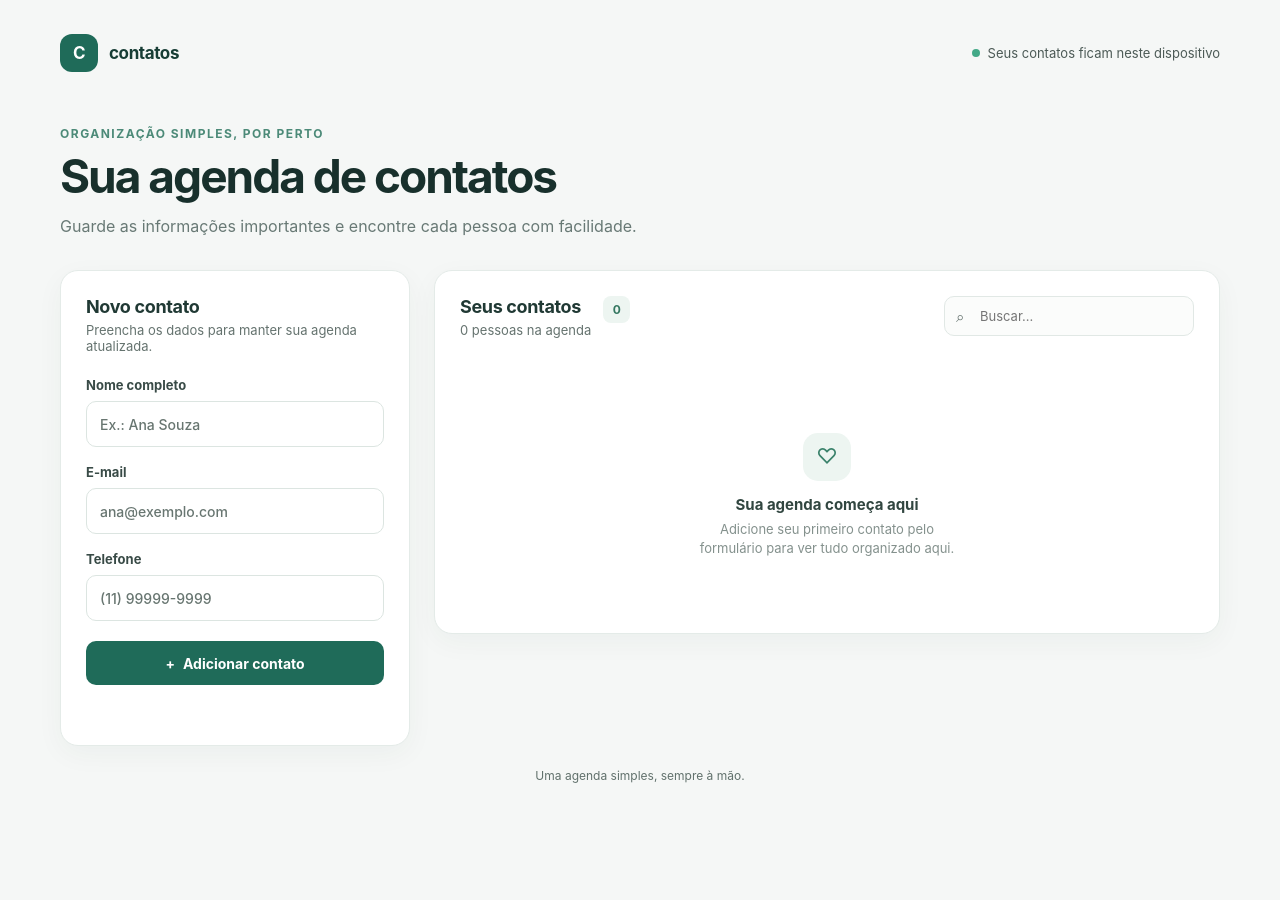
agenda de contatos › adiciona, edita e remove contatos
The width and height of the screenshot is (1280, 900).
In the field labelled "Nome completo": [235, 424] box [86,401,384,447], type "Ana Souza"
In the field labelled "E-mail": [235, 511] box [86,488,384,534], type "ana@example.com"
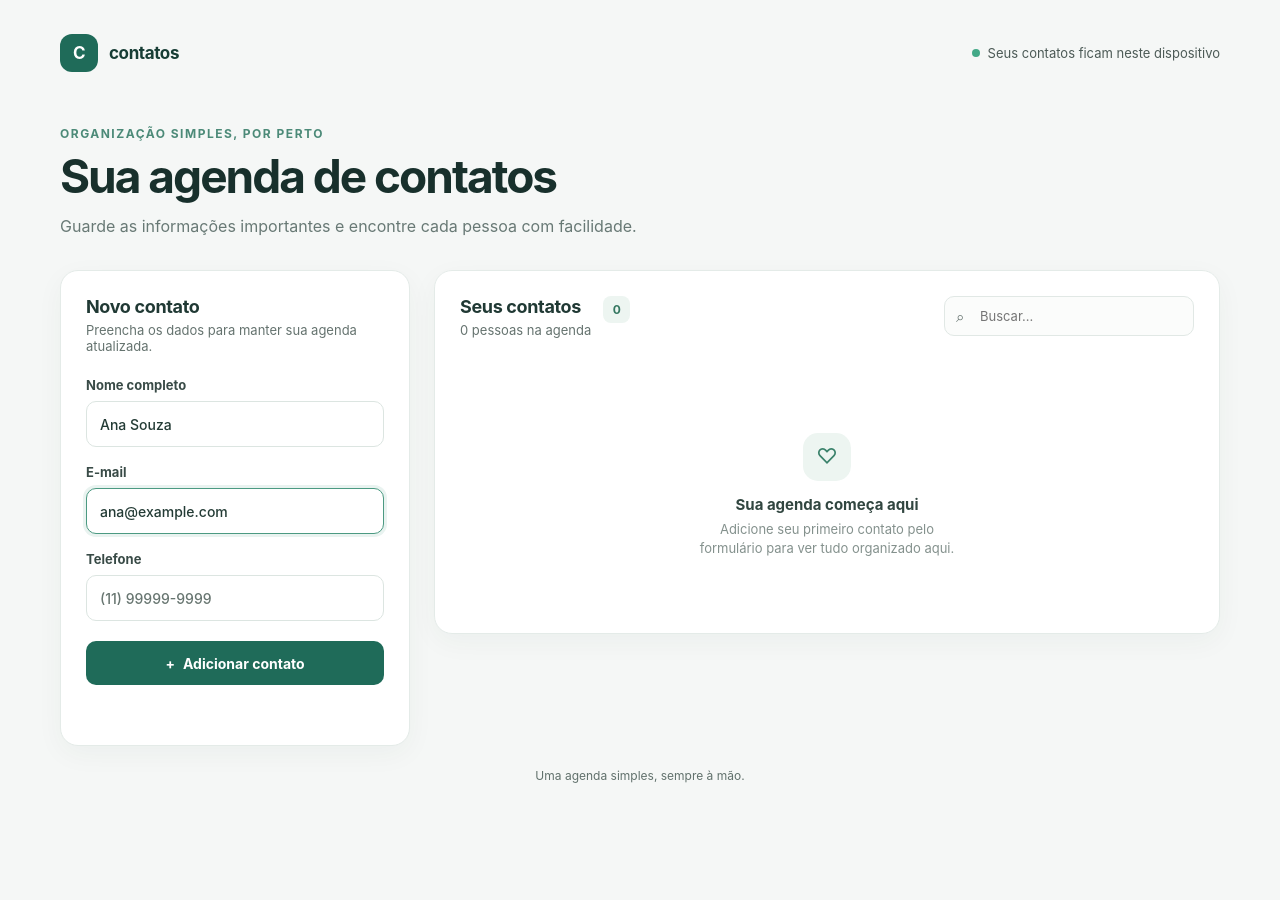
In the field labelled "Telefone": [235, 598] box [86,575,384,621], type "(11) 99999-1234"
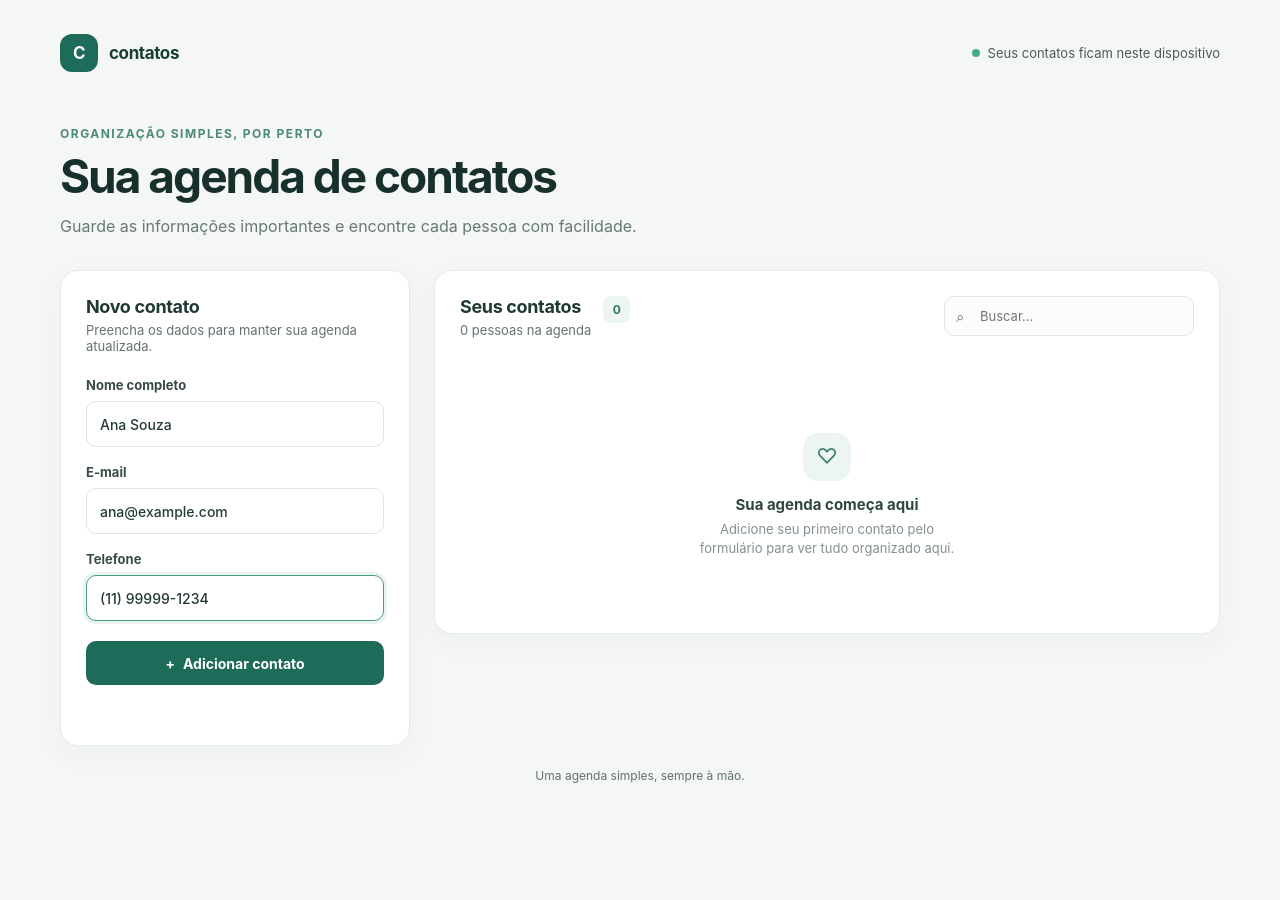
Click the button "+ Adicionar contato": [235, 663] box [86,641,384,685]
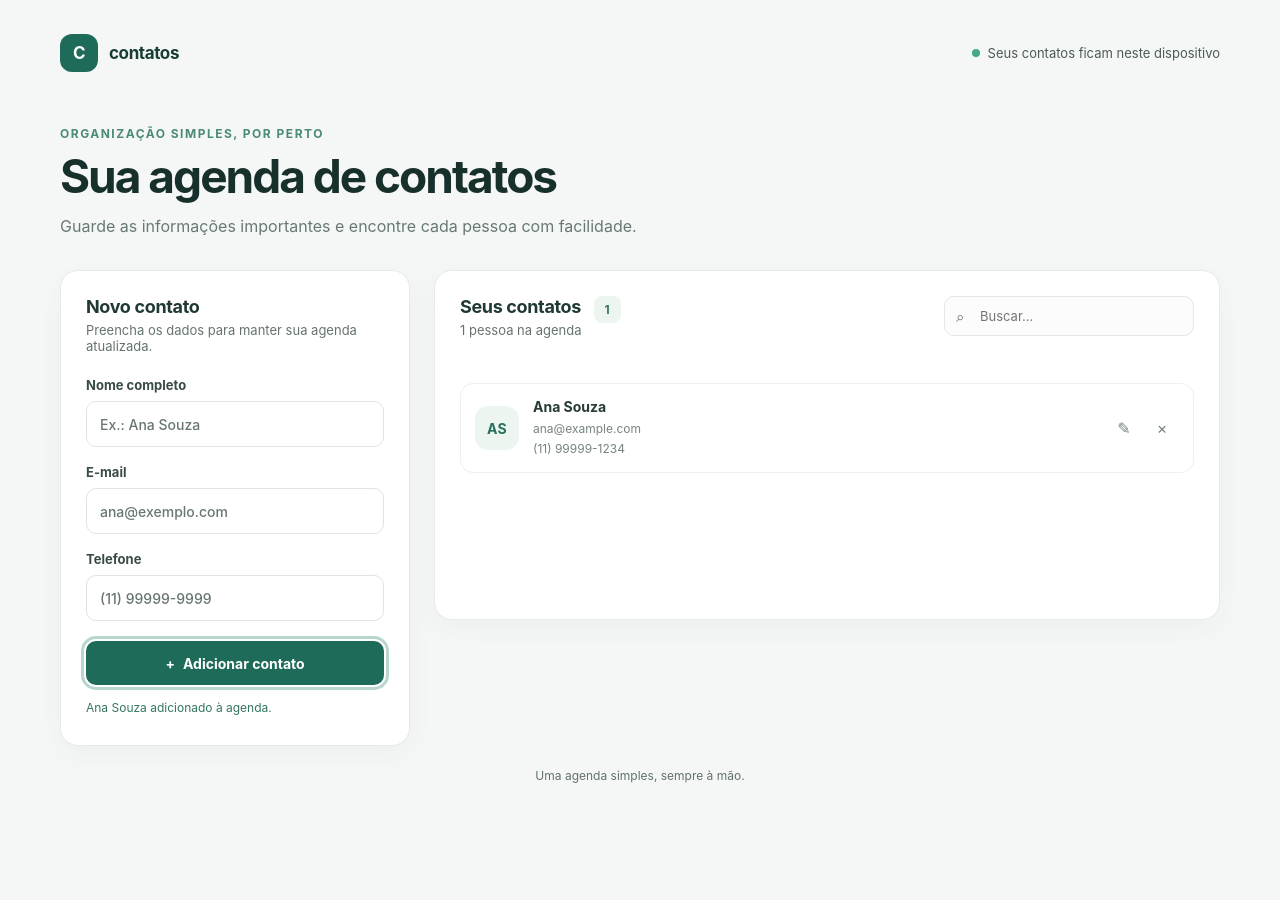
Check: the heading "Ana Souza" is shown, box [533,398,606,415]
Check: the text "1 pessoa na agenda" is shown, box [460,322,582,338]
Click the button named "Editar Ana Souza": [1124, 428] box [1107,411,1141,445]
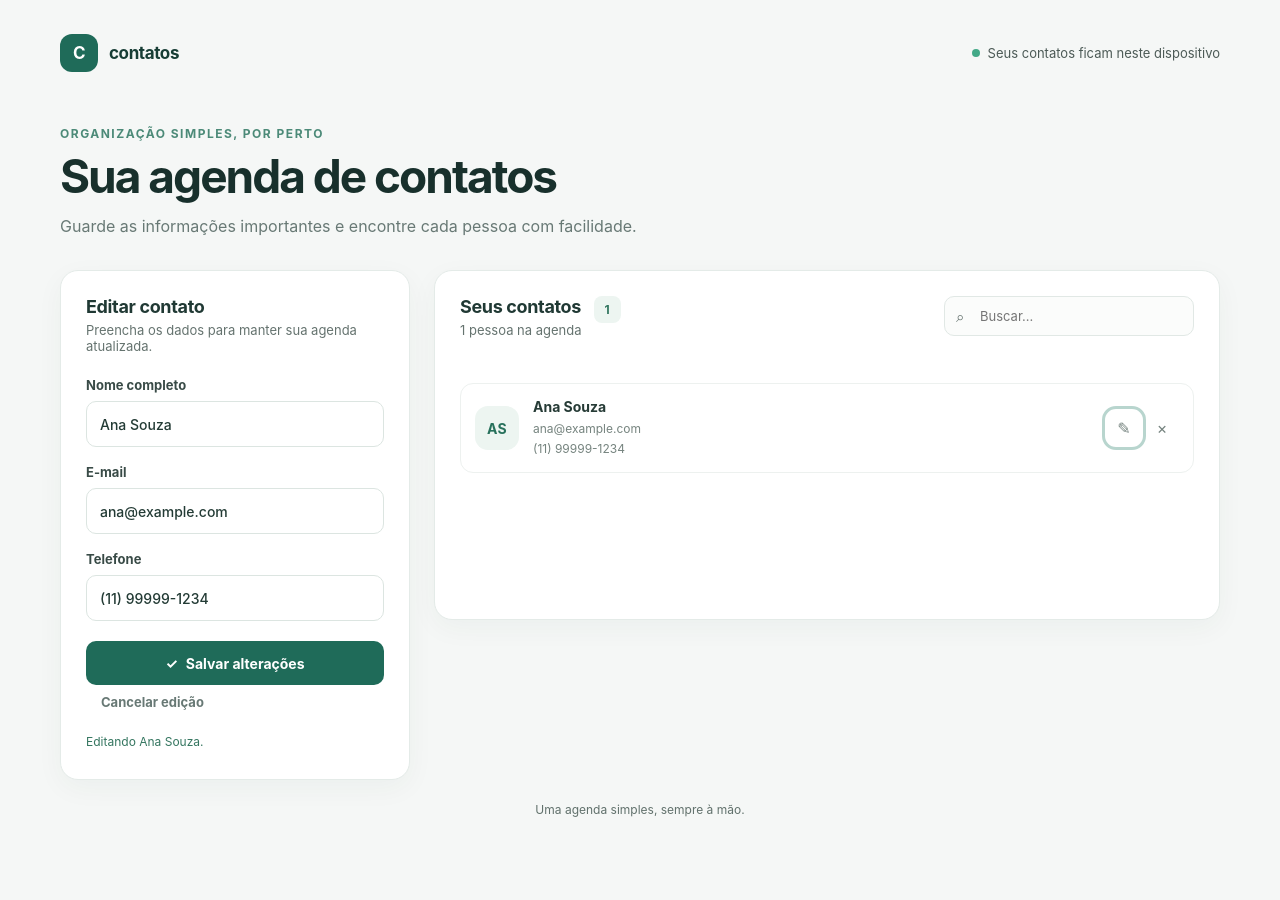
Replace the text in the field labelled "Nome completo" with "Ana Lima": [235, 424] box [86,401,384,447]
Click the button "✓ Salvar alterações": [235, 663] box [86,641,384,685]
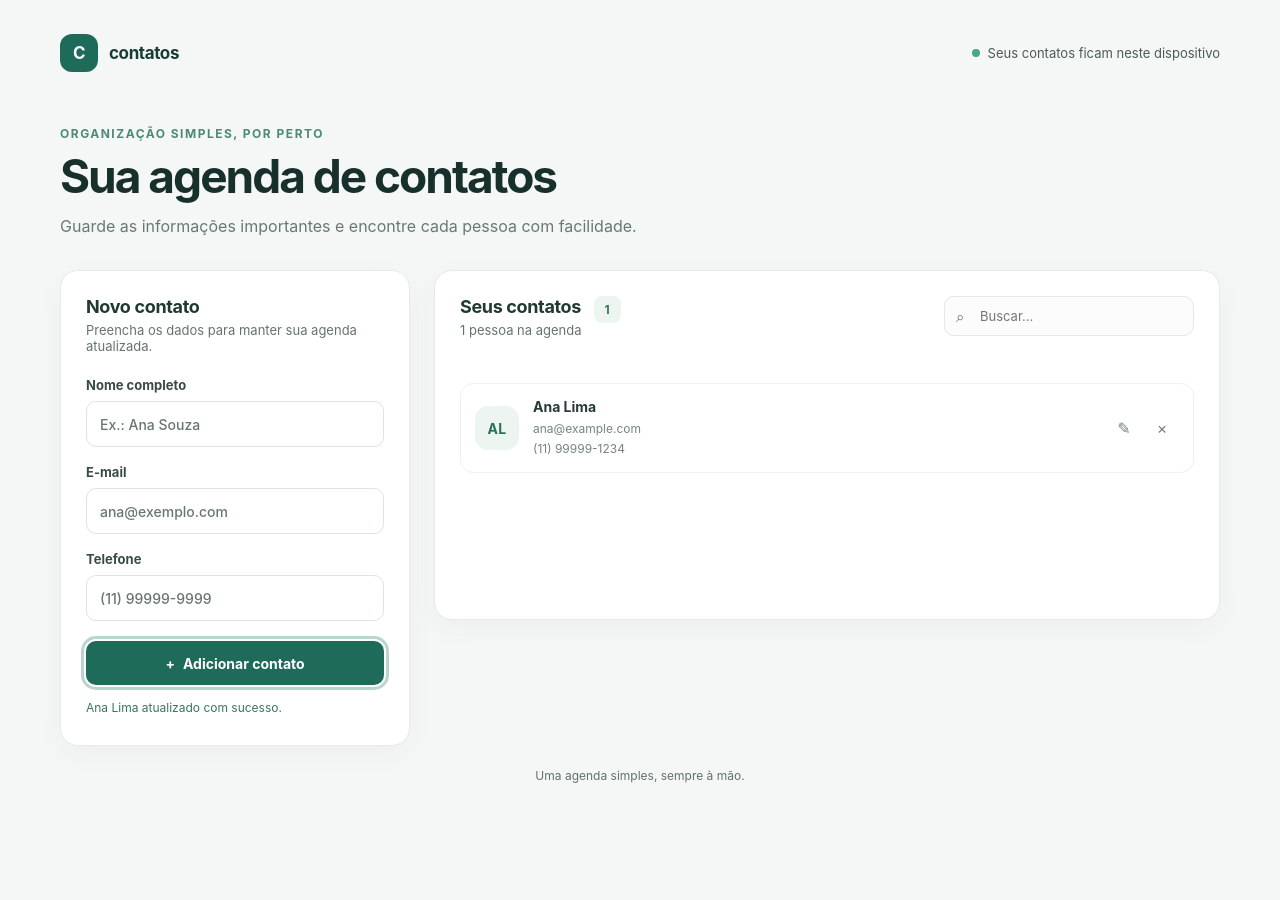
Check: the heading "Ana Lima" is shown, box [533,398,596,415]
Click the button named "Remover Ana Lima": [1162, 428] box [1145,411,1179,445]
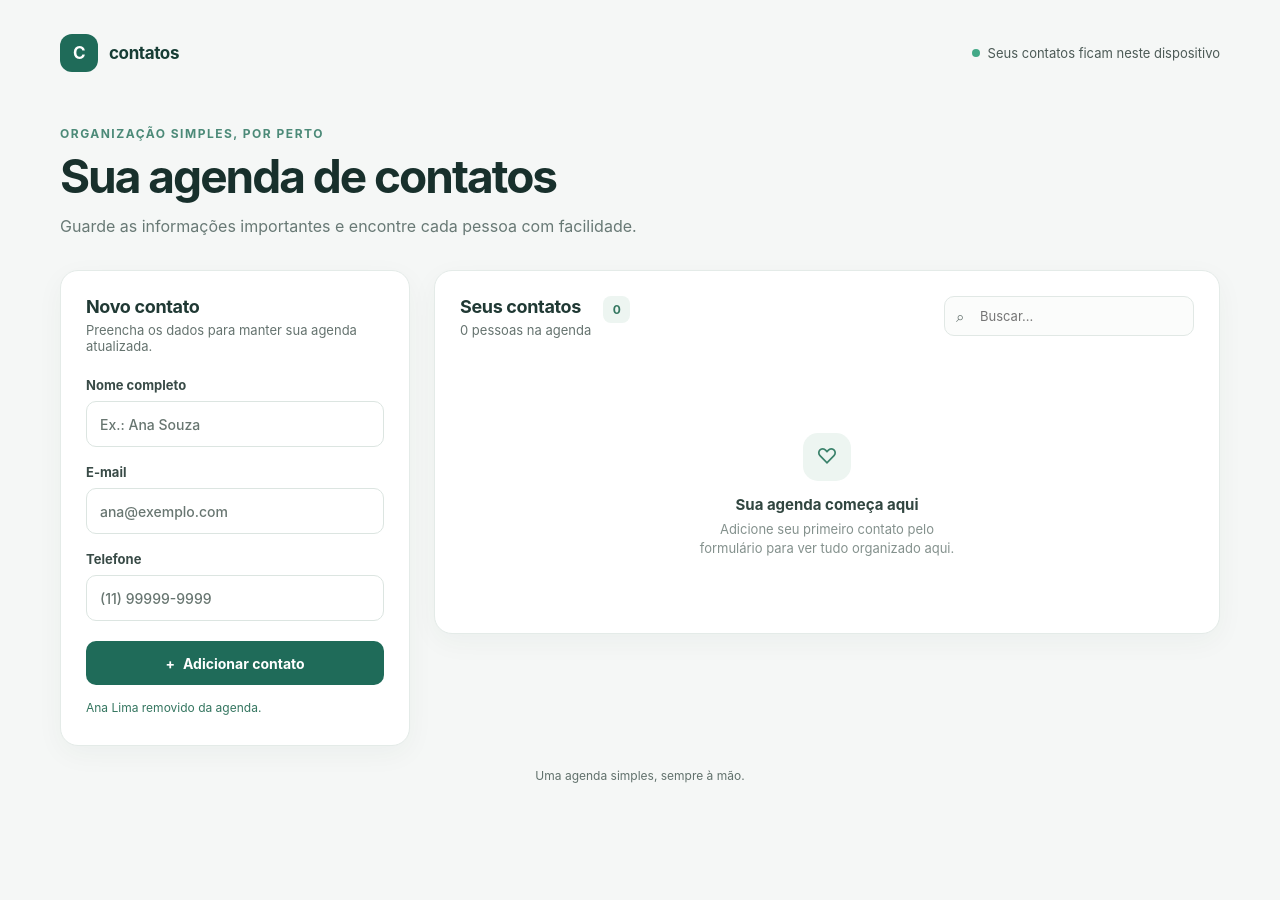
Check: the heading "Sua agenda começa aqui" is shown, box [736,495,918,514]
